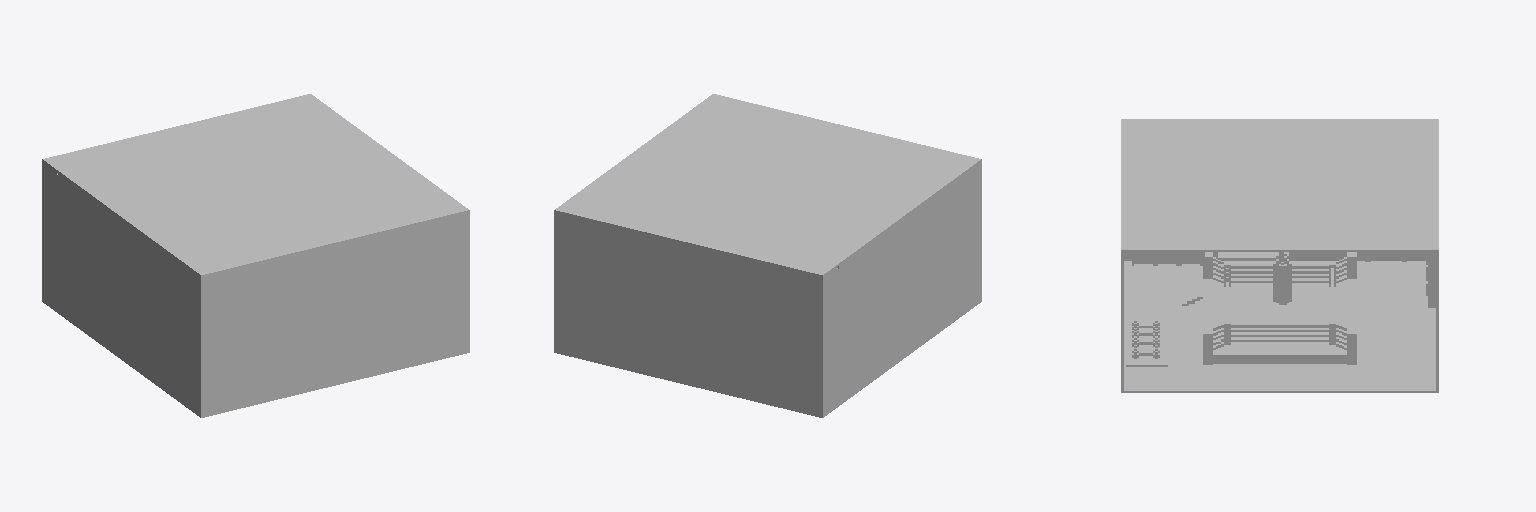
File: Boxing_RingFinal.obj
3 views of the same model, side by side, from view 1: azimuth 30°, elevation 25°; view 2: azimuth 150°, elevation 25°; view 3: azimuth 270°, elevation 25° (orthographic).
Visible parts, largest first — view 1: object 1; view 2: object 1; view 3: object 1.
Boxes of the visible parts, <box> form: object 1: <box>42,94,469,417</box>; object 1: <box>554,94,981,417</box>; object 1: <box>1121,119,1438,392</box>.
Bounding box in the file's own units: 11.8 × 6 × 12.1.